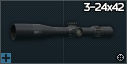March Tactical 3-24x42 FFP optical scope: (0, 0, 127, 64)
